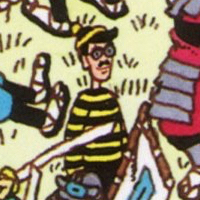odlaw: (82, 23, 115, 81)
